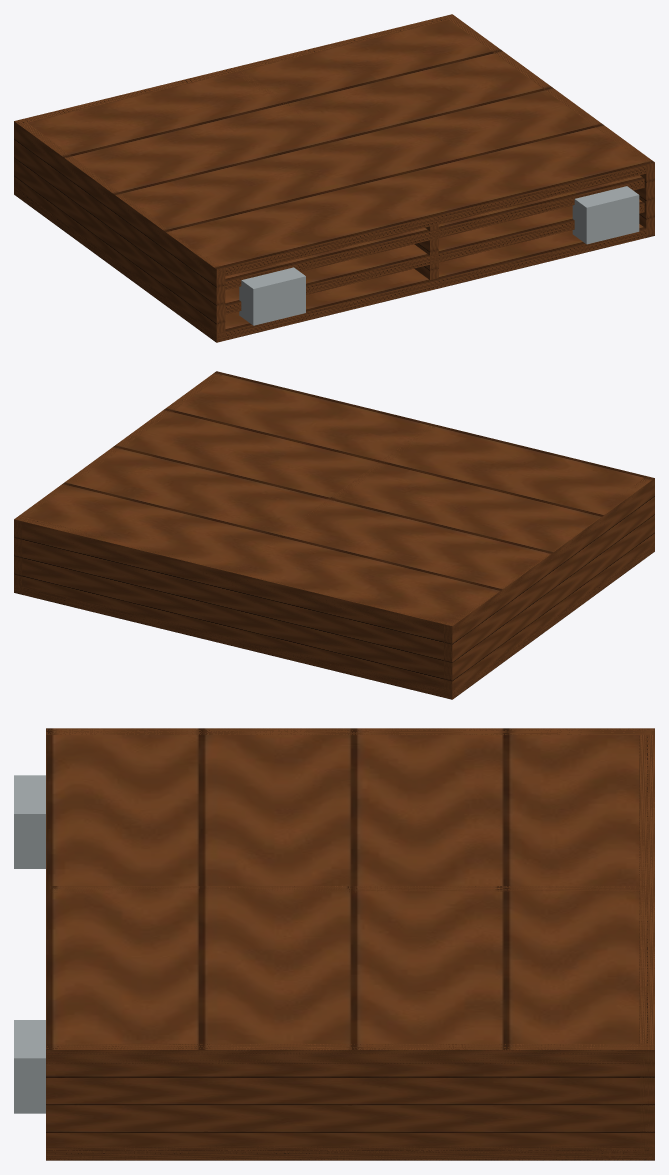
File: suburban-outbreak-interiors-kitchen-cutlery-tray-01374773__19915.glb
The picture shows the model from 3 angles, top to bottom: view 1: azimuth 30°, elevation 25°; view 2: azimuth 150°, elevation 25°; view 3: azimuth 270°, elevation 25°; orthographic projection. The views are drawn at different scales.
Visible parts, largest first — view 1: kitchen-cutlery-tray; view 2: kitchen-cutlery-tray; view 3: kitchen-cutlery-tray.
Part boxes in pixels (<box>): kitchen-cutlery-tray: <box>14,14,654,342</box>; kitchen-cutlery-tray: <box>14,371,654,699</box>; kitchen-cutlery-tray: <box>14,728,654,1160</box>.
Bounding box in the file's own units: 0.5 × 0.08 × 0.421.
Materials: 2 (1 with a texture image).
